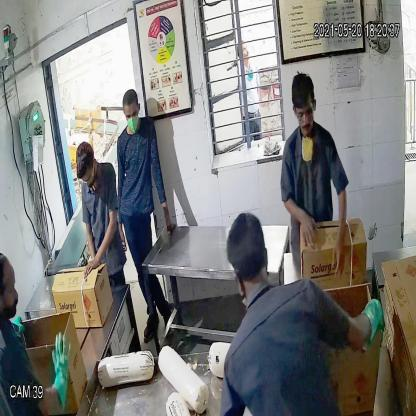goggles: (291, 101, 315, 124)
no_goggles: (120, 106, 142, 122)
